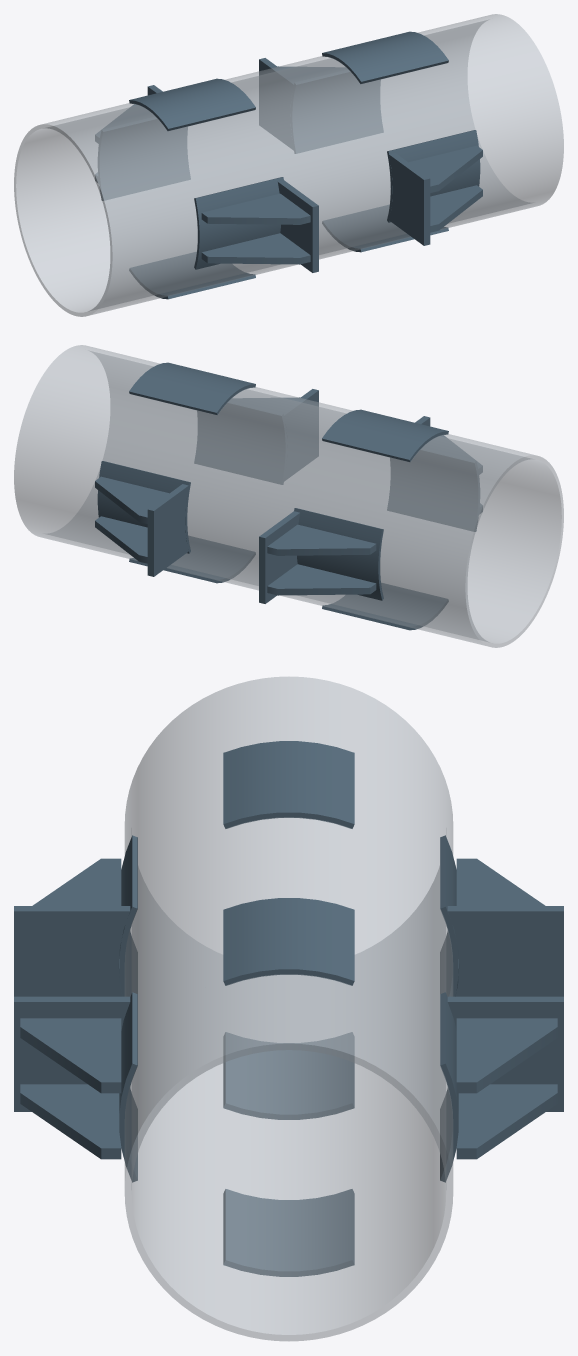
File: TS-663.00.00-02-opora-dn325.glb
3 renders of one model, top to bottom at view 1: azimuth 30°, elevation 25°; view 2: azimuth 150°, elevation 25°; view 3: azimuth 270°, elevation 25°, orthographic. The views are drawn at different scales.
Visible parts, largest first — view 1: truba, det_16, det_12, det_18, det_17, det_8, det_20, det_1, det_19, det_9, det_7, det_6 (+6 smaller); view 2: truba, det_8, det_4, det_18, det_17, det_16, det_20, det_9, det_19, det_1, det_14, det_15 (+6 smaller); view 3: truba, det_17, det_18, det_19, det_20, det_5, det_13, det_2, det_11, det_3, det_10, det_1 (+7 smaller).
Boxes of the visible parts, x1,y1,x2,y2 form: truba: [14, 14, 563, 316]; det_16: [98, 117, 190, 200]; det_12: [291, 70, 383, 153]; det_18: [129, 78, 255, 131]; det_17: [322, 31, 448, 84]; det_8: [194, 177, 283, 269]; det_20: [129, 252, 255, 299]; det_1: [389, 153, 430, 245]; det_19: [322, 205, 448, 252]; det_9: [259, 58, 296, 149]; det_7: [201, 233, 310, 264]; det_6: [201, 193, 310, 224]; truba: [14, 345, 563, 647]; det_8: [387, 448, 479, 531]; det_4: [194, 401, 286, 484]; det_18: [322, 409, 448, 462]; det_17: [129, 362, 255, 415]; det_16: [294, 508, 383, 600]; det_20: [322, 583, 448, 630]; det_9: [147, 484, 188, 576]; det_19: [129, 536, 255, 583]; det_1: [281, 389, 318, 480]; det_14: [267, 564, 376, 595]; det_15: [267, 524, 376, 555]; truba: [124, 676, 453, 1341]; det_17: [223, 898, 354, 985]; det_18: [223, 741, 354, 828]; det_19: [223, 1189, 354, 1276]; det_20: [223, 1032, 354, 1119]; det_5: [14, 906, 130, 996]; det_13: [447, 906, 563, 996]; det_2: [20, 1018, 121, 1093]; det_11: [456, 1018, 557, 1093]; det_3: [20, 1084, 121, 1159]; det_10: [456, 1084, 557, 1159]; det_1: [14, 996, 130, 1111].
Bounding box in the file's own units: 859 × 335 × 544.
